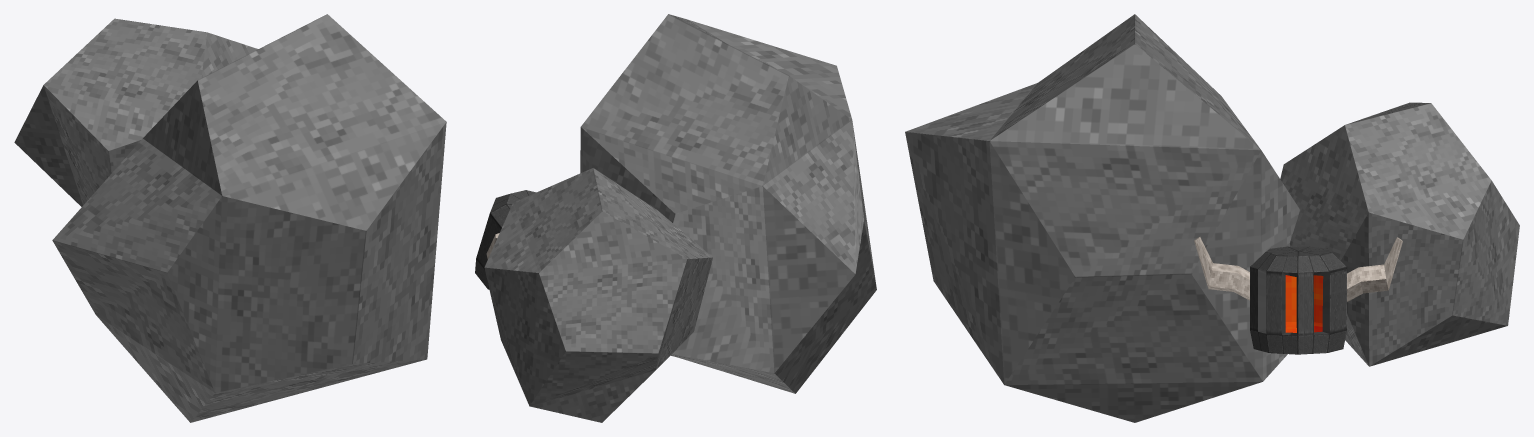
The model's file is Helm Rocks.fbx.
3 views of the same model, side by side, from view 1: azimuth 30°, elevation 25°; view 2: azimuth 150°, elevation 25°; view 3: azimuth 270°, elevation 25° (orthographic). The views are drawn at different scales.
Parts seen in each view (by area): view 1: Helm_Stone_2, Helm_Stone; view 2: Helm_Stone_2, Helm_Stone, Helm_Helm; view 3: Helm_Stone_2, Helm_Stone, Helm_Helm, Helm_Horn_L, Helm_Horn_R.
Boxes of the visible parts, left/top/right/bottom form: Helm_Stone_2: left=52, top=14, right=446, bottom=422; Helm_Stone: left=14, top=18, right=258, bottom=206; Helm_Stone_2: left=580, top=14, right=876, bottom=393; Helm_Stone: left=484, top=168, right=712, bottom=422; Helm_Helm: left=475, top=190, right=535, bottom=289; Helm_Stone_2: left=905, top=14, right=1299, bottom=422; Helm_Stone: left=1280, top=102, right=1519, bottom=366; Helm_Helm: left=1250, top=246, right=1346, bottom=354; Helm_Horn_L: left=1347, top=237, right=1402, bottom=301; Helm_Horn_R: left=1194, top=237, right=1249, bottom=300.
Bounding box in the file's own units: 442 × 438 × 623.
Materials: 4 (4 with a texture image).
